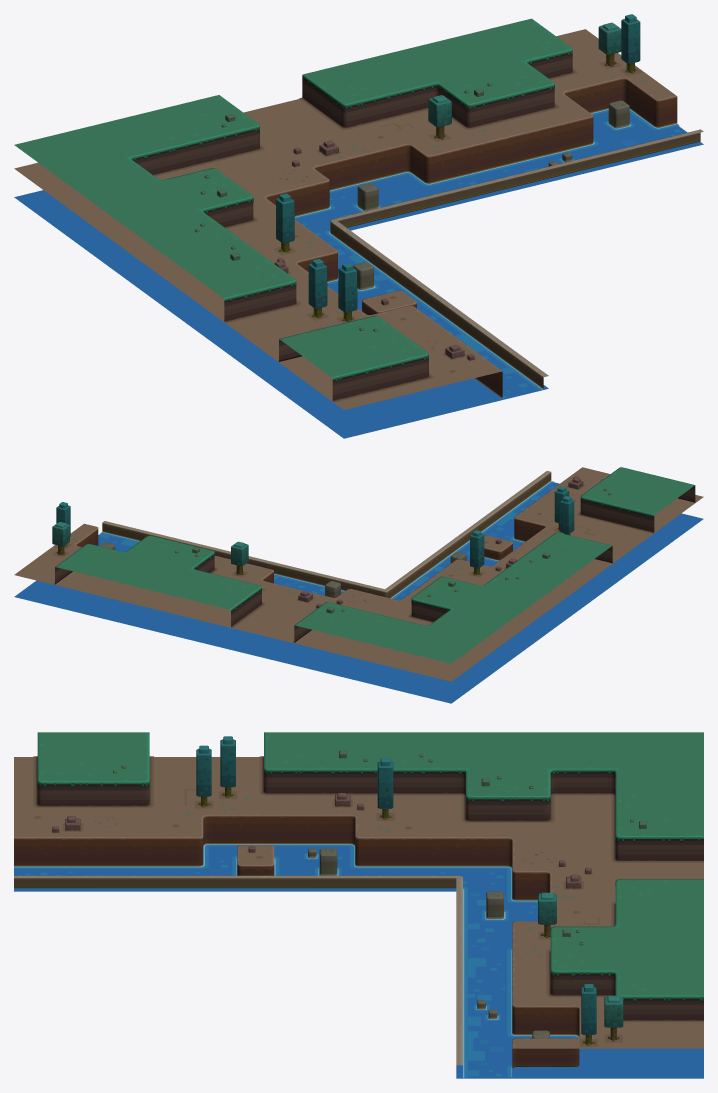
Rendered from C_water1_out_RD.fbx.
The picture shows the model from 3 angles, top to bottom: view 1: azimuth 30°, elevation 25°; view 2: azimuth 150°, elevation 25°; view 3: azimuth 270°, elevation 25°; orthographic projection. The views are drawn at different scales.
Parts seen in each view (by area): view 1: C_water1_out_RD; view 2: C_water1_out_RD; view 3: C_water1_out_RD.
Part boxes in pixels (x1,y1,x2,y2): C_water1_out_RD: [14, 14, 703, 438]; C_water1_out_RD: [14, 467, 703, 703]; C_water1_out_RD: [14, 732, 703, 1078].
Size of the model in its own units: 117 by 16.47 by 117.
